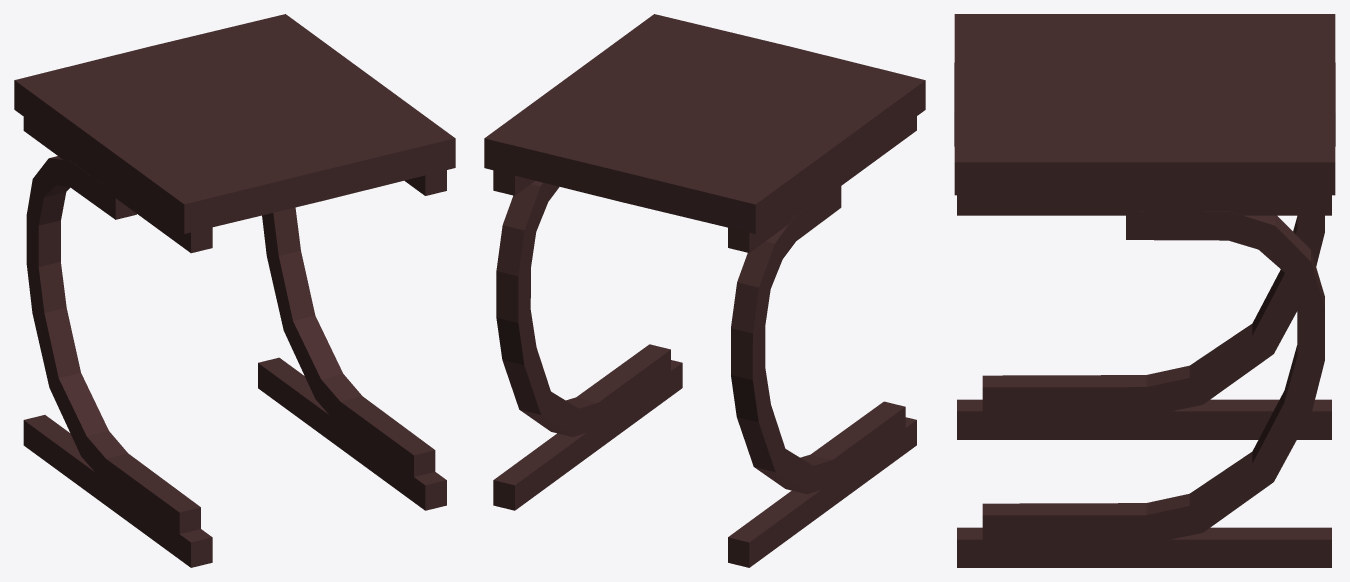
Rendered from Bedside Table.fbx.
The picture shows the model from 3 angles, left to right: view 1: azimuth 30°, elevation 25°; view 2: azimuth 150°, elevation 25°; view 3: azimuth 270°, elevation 25°; orthographic projection. The views are drawn at different scales.
Visible parts, largest first — view 1: Bedside Table; view 2: Bedside Table; view 3: Bedside Table.
Boxes of the visible parts, left/top/right/bottom form: Bedside Table: left=14, top=14, right=455, bottom=567; Bedside Table: left=484, top=14, right=925, bottom=567; Bedside Table: left=954, top=14, right=1335, bottom=567.
Size of the model in its own units: 40.14 by 51.84 by 43.65.
